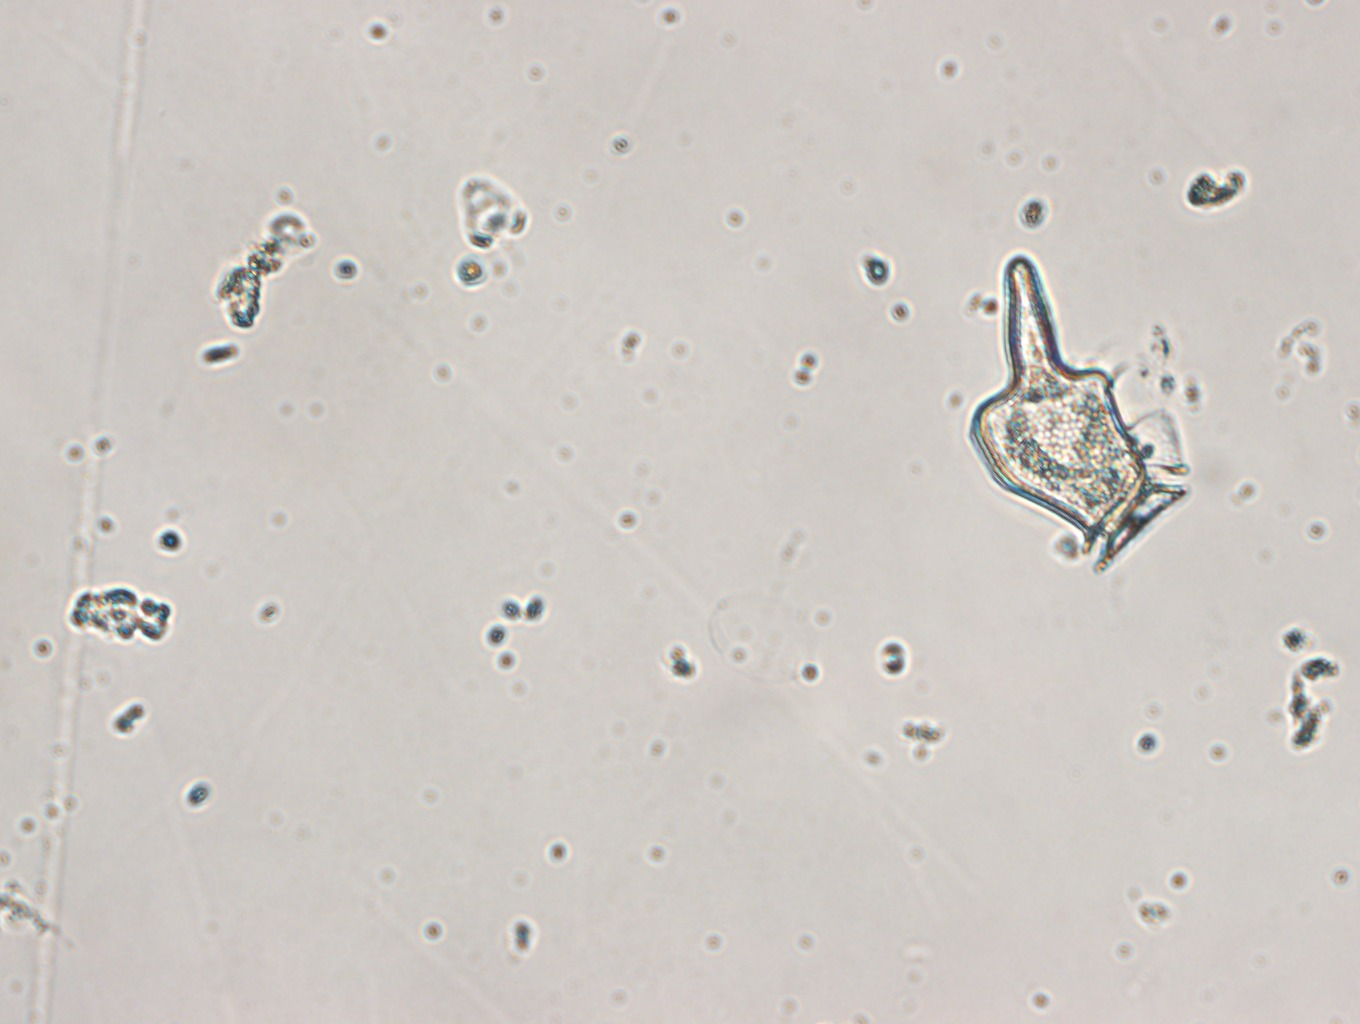dinophysis caudata: (953, 252, 1187, 577)
